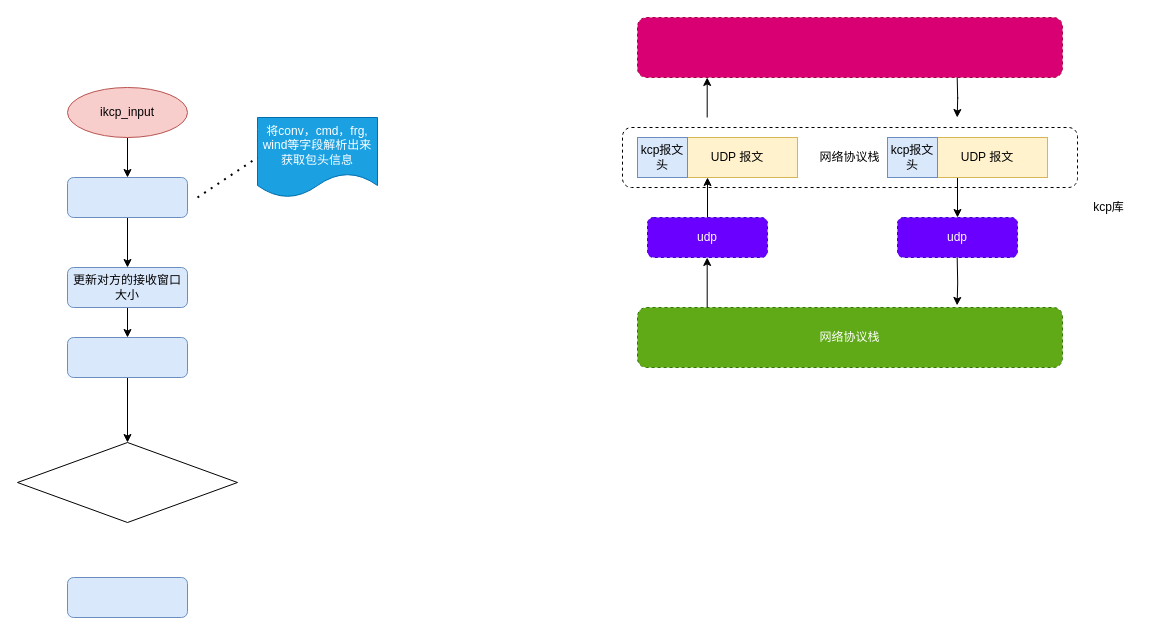
The diagram is 1151 pixels wide and 636 high, and some of its shapes have lost their labels. Here are the shapes that lost their labels. From the top down, the centre of each, then its label:
At point 849,47: "应用层协议".
At point 127,197: "解析数据头".
At point 127,357: "根据对方给的未确认报文序列号，来清除本机发送队列的报文".
At point 127,597: "更新该kcp连接的roundtriptime和重传超时时间rto".
